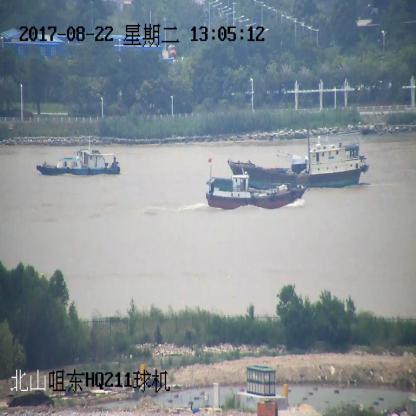Fishing Boat: (229, 125, 368, 191), (206, 158, 307, 208), (35, 138, 122, 177)
